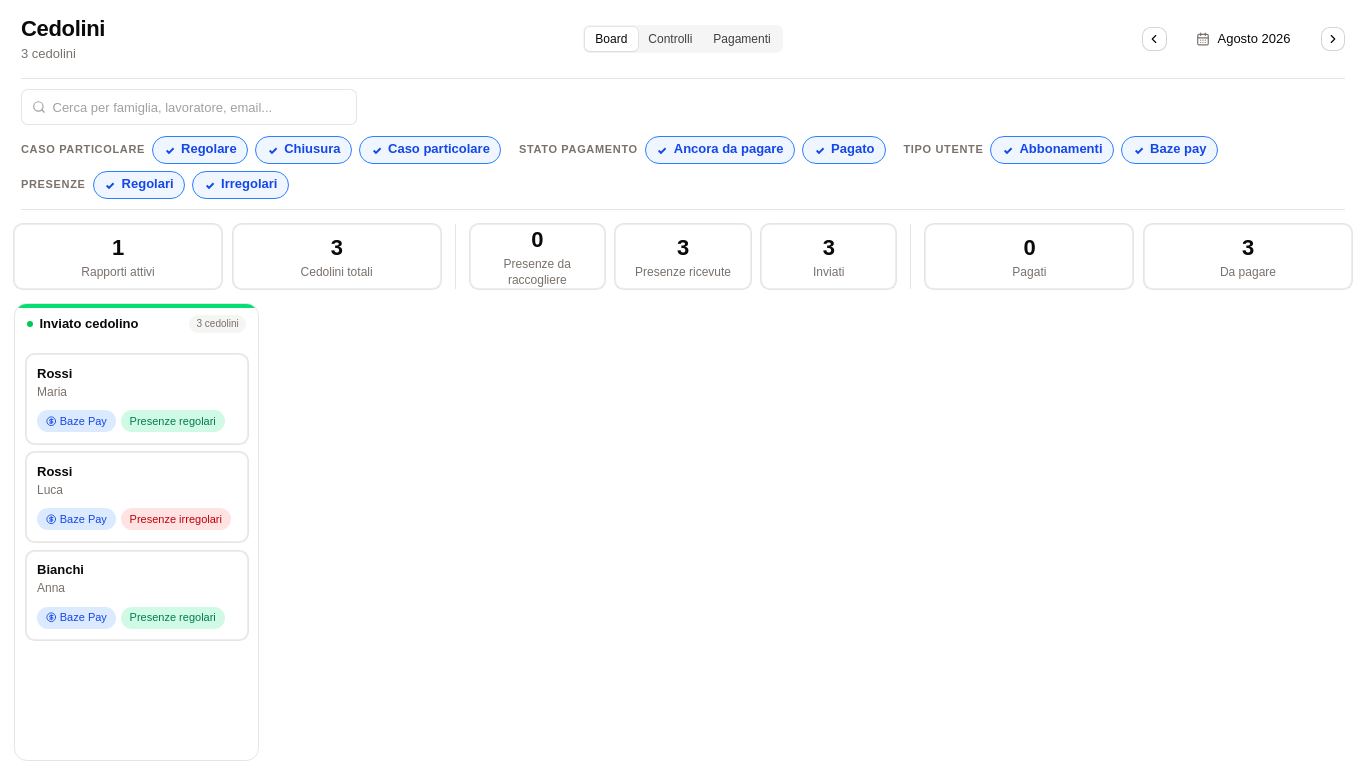
Scenario: CedoliniPayrollView — filtri toolbar (BAZ-36) › combina ricerca testuale E filtri (AND): mostra solo l'intersezione
The width and height of the screenshot is (1366, 768).
Expected: the text "Maria" is shown, x1=37 y1=385 x2=67 y2=399
Expected: the text "Luca" is shown, x1=37 y1=483 x2=63 y2=497
ricerca "Rossi" → restano solo le due card Rossi
In the field with placeholder "Cerca per famiglia, lavoratore, email...": [189, 107] box x1=21 y1=89 x2=357 y2=125, type "Rossi"
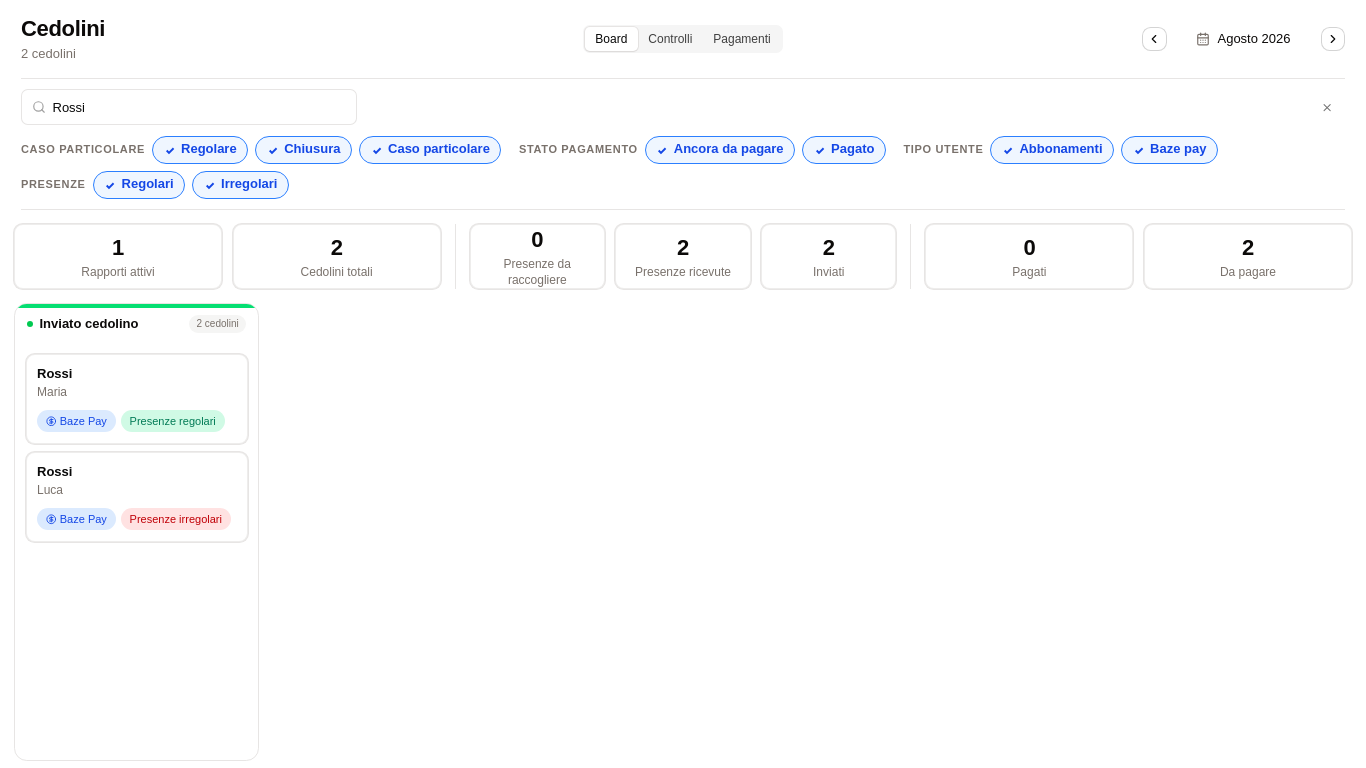
Expected: the text "Maria" is shown, x1=37 y1=385 x2=67 y2=399
Expected: the text "Anna" is gone
+ deseleziona "Irregolari" → resta solo Rossi–Maria (intersezione ricerca AND filtro)
Click the checkbox labelled "Irregolari": [241, 185] box x1=192 y1=171 x2=289 y2=199
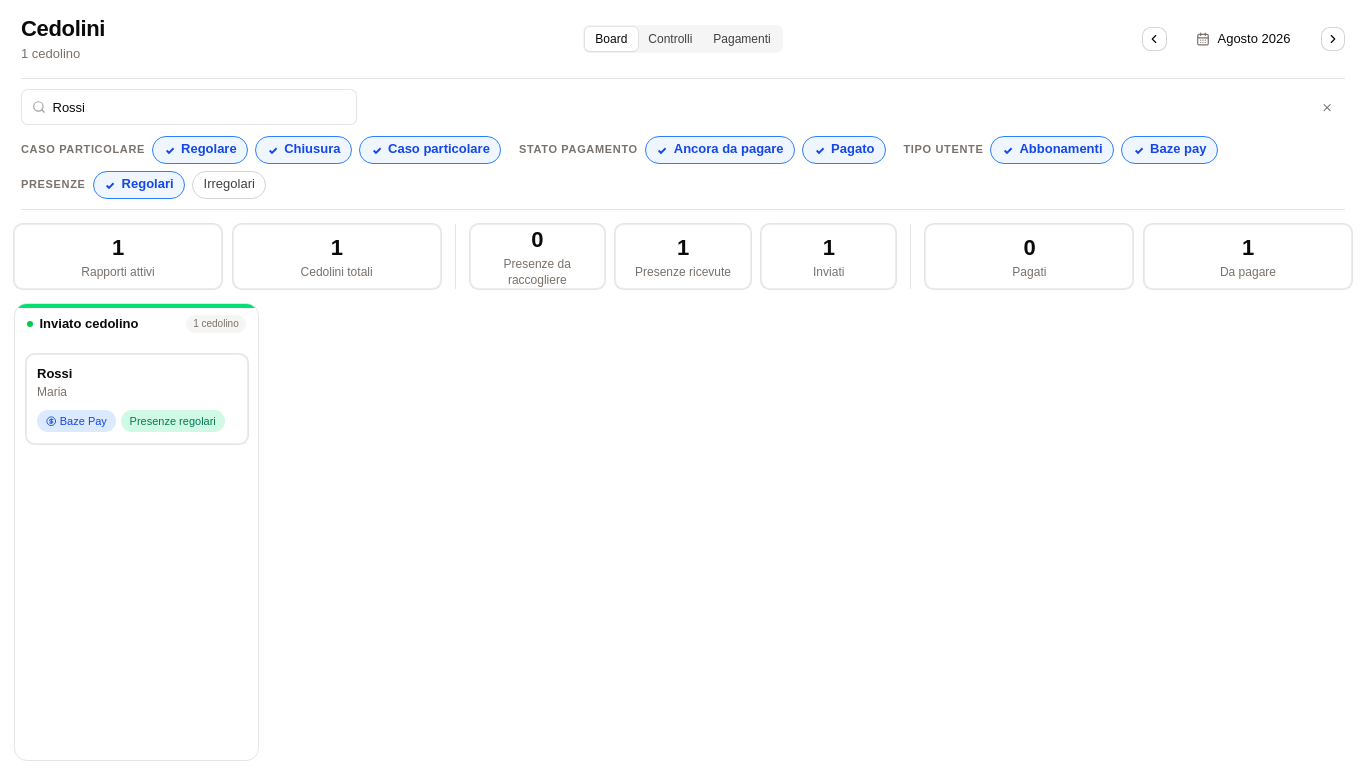
Expected: the text "Maria" is shown, x1=37 y1=385 x2=67 y2=399
Expected: the text "Luca" is gone
